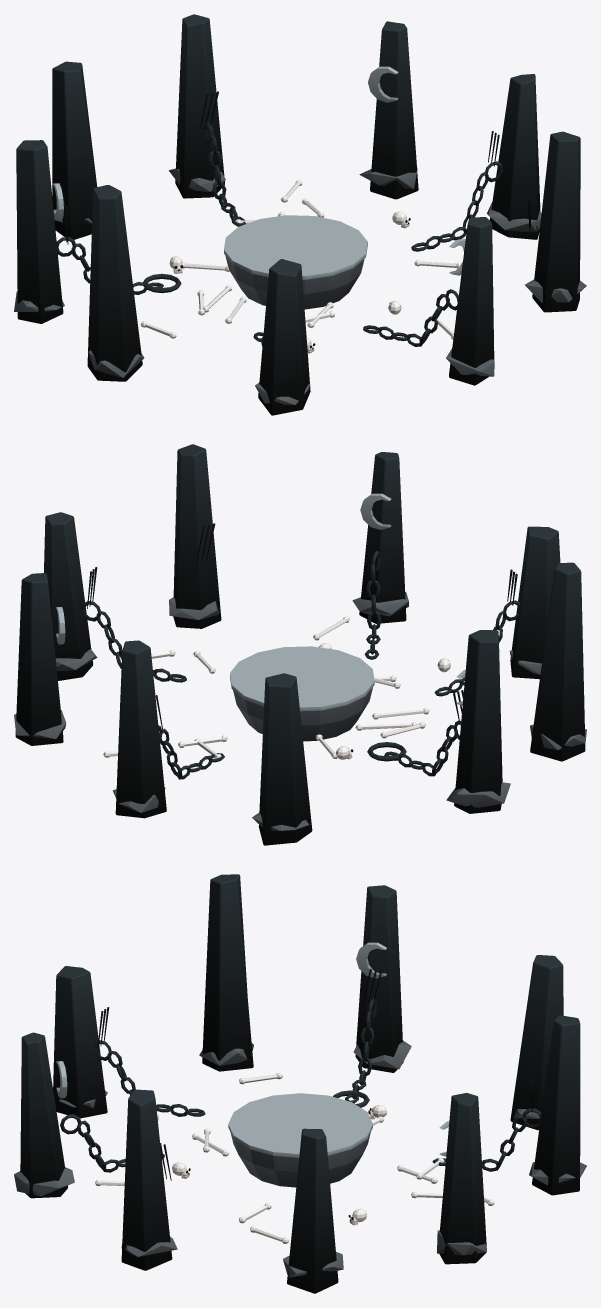
Rendered from hound_kennel_stones.glb.
3 views of the same model, one above another, from view 1: azimuth 30°, elevation 25°; view 2: azimuth 150°, elevation 25°; view 3: azimuth 270°, elevation 25° (orthographic).
Parts seen in each view (by area): view 1: hound_kennel_stones; view 2: hound_kennel_stones; view 3: hound_kennel_stones.
Boxes of the visible parts, x1,y1,x2,y2 form: hound_kennel_stones: (14, 14, 586, 415); hound_kennel_stones: (14, 444, 586, 845); hound_kennel_stones: (14, 874, 586, 1293).
Bounding box in the file's own units: 13.49 × 4.87 × 13.62.
2 materials, 2 textured.
